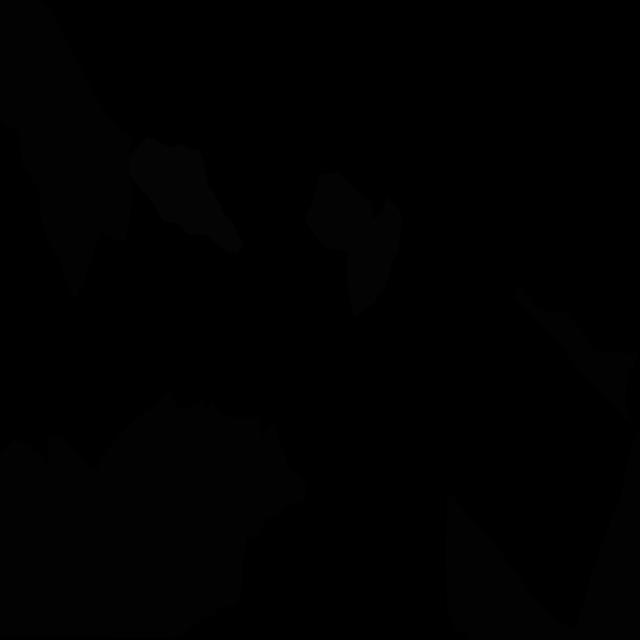cardboard: (0, 393, 307, 639), (445, 428, 640, 640), (0, 0, 133, 301), (512, 288, 640, 427)
metal: (306, 173, 402, 317)
soft_plastic: (129, 137, 243, 253)
